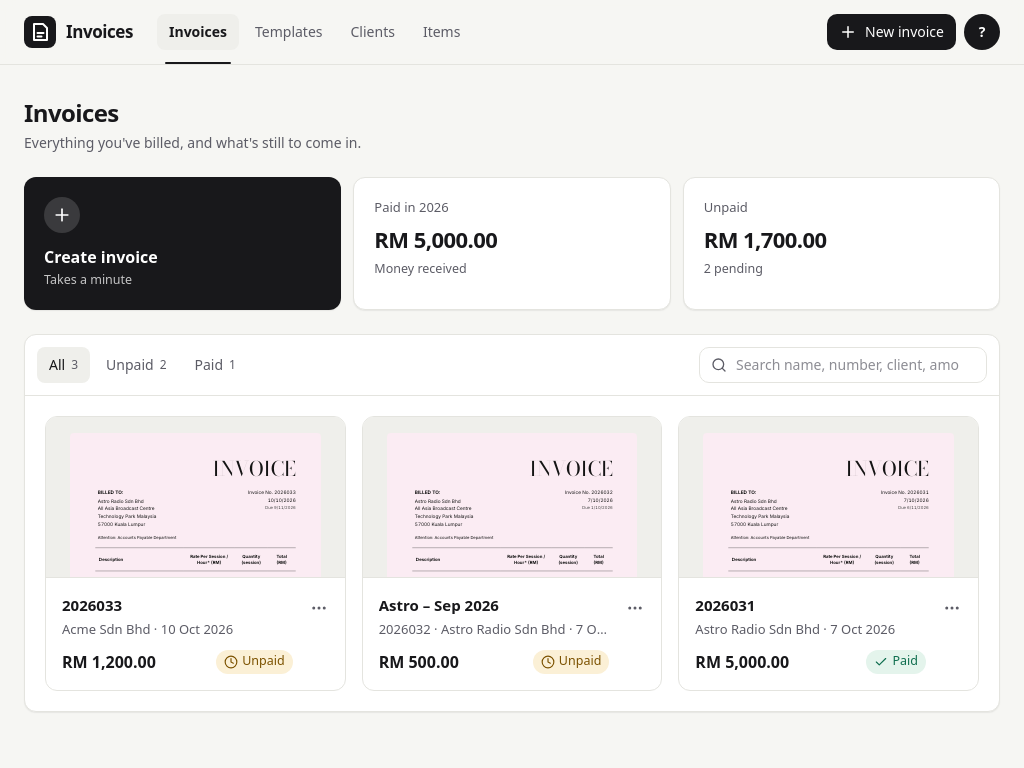
Test: invoices dashboard › deletes with a chance to undo
Click the button named "Actions for 2026033" at (319, 608), box [301,590,337,626]
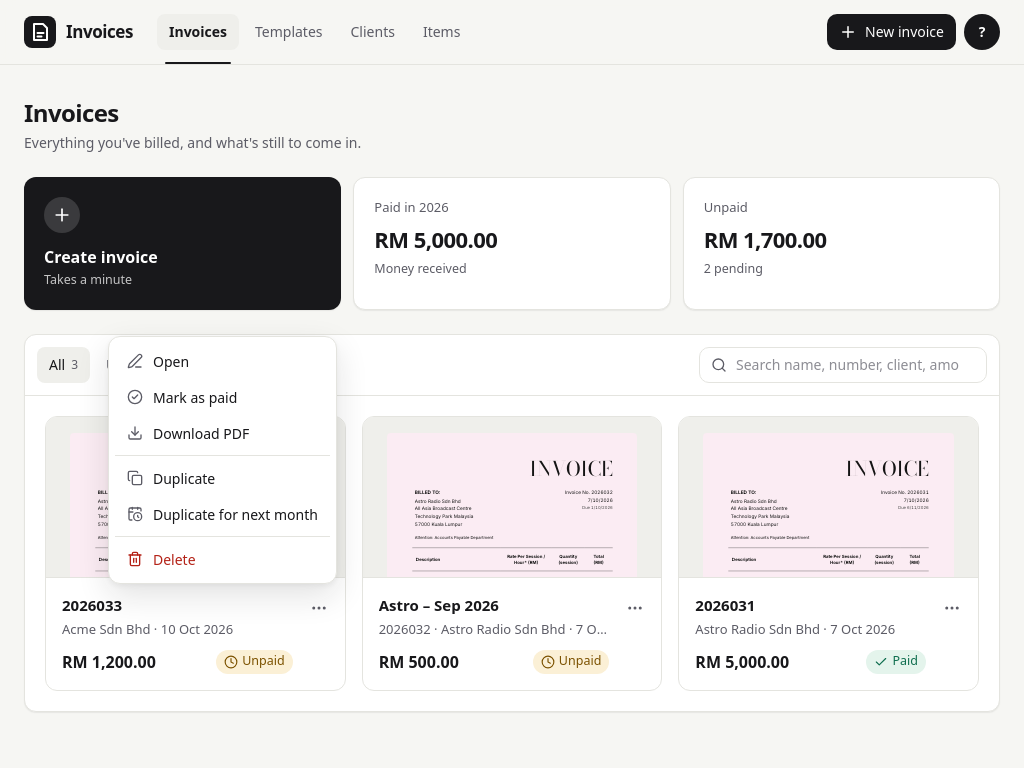
Click the menu item "Delete" at (161, 559), box [127,550,196,568]
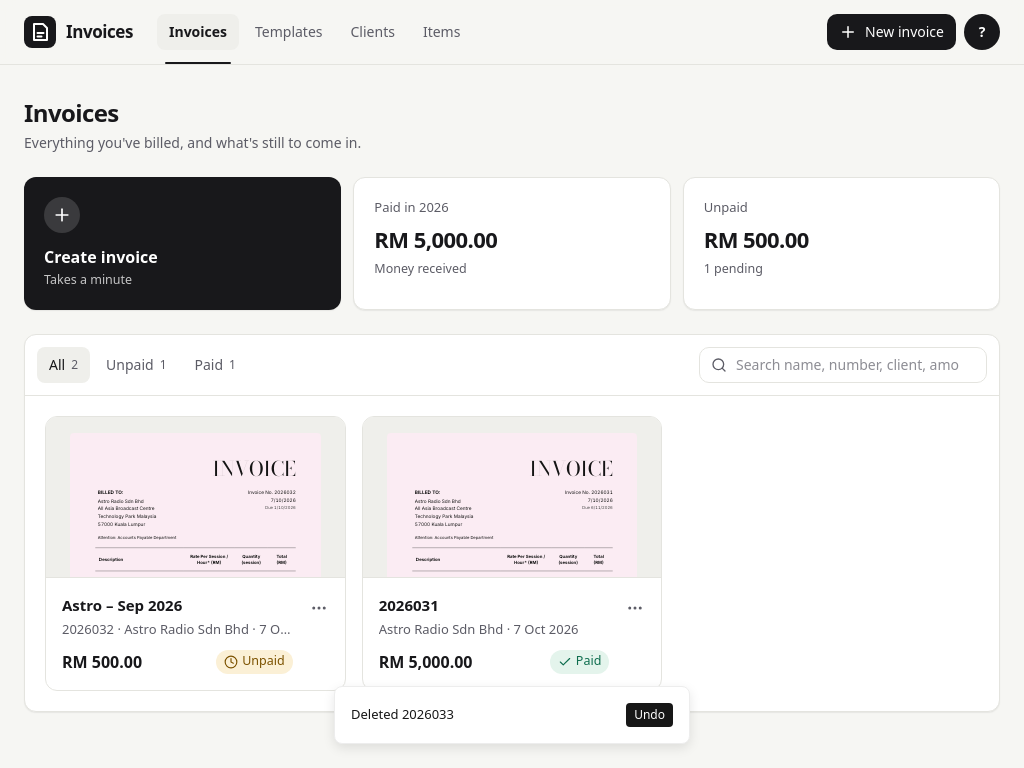
Click the button "Undo" at (650, 715), box [626,703,673,727]
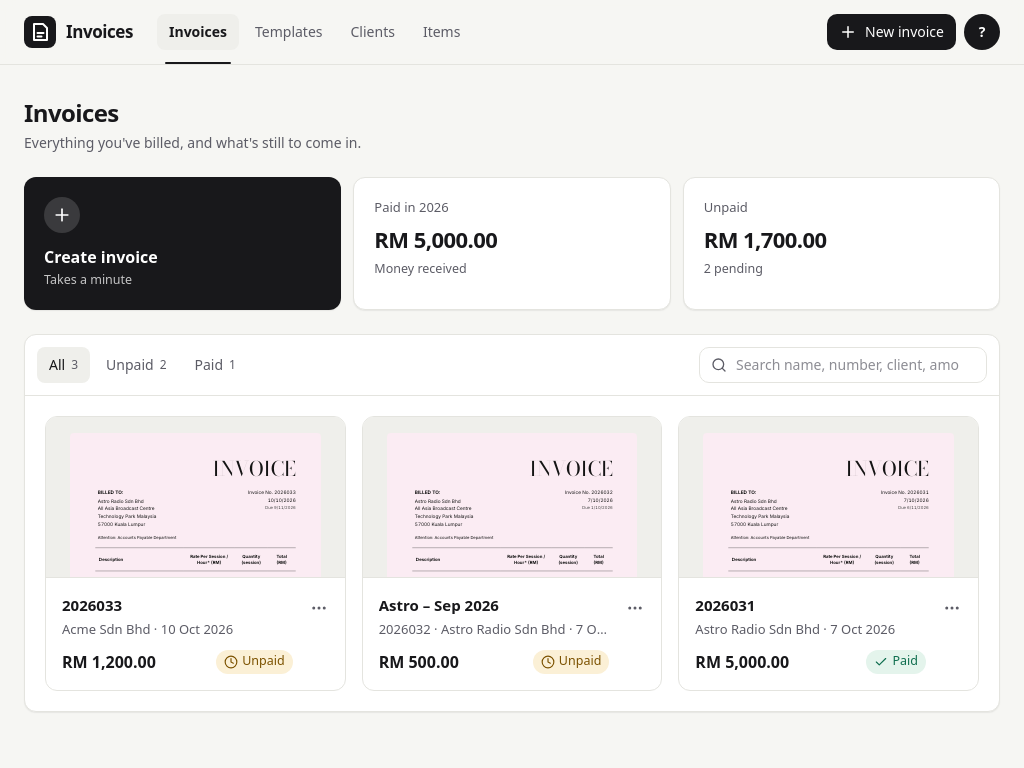
Expected: the link "2026033" is shown, [62,595,122,615]
